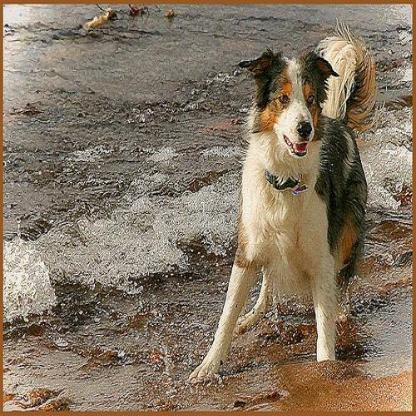Border_collie: (182, 17, 386, 382)
